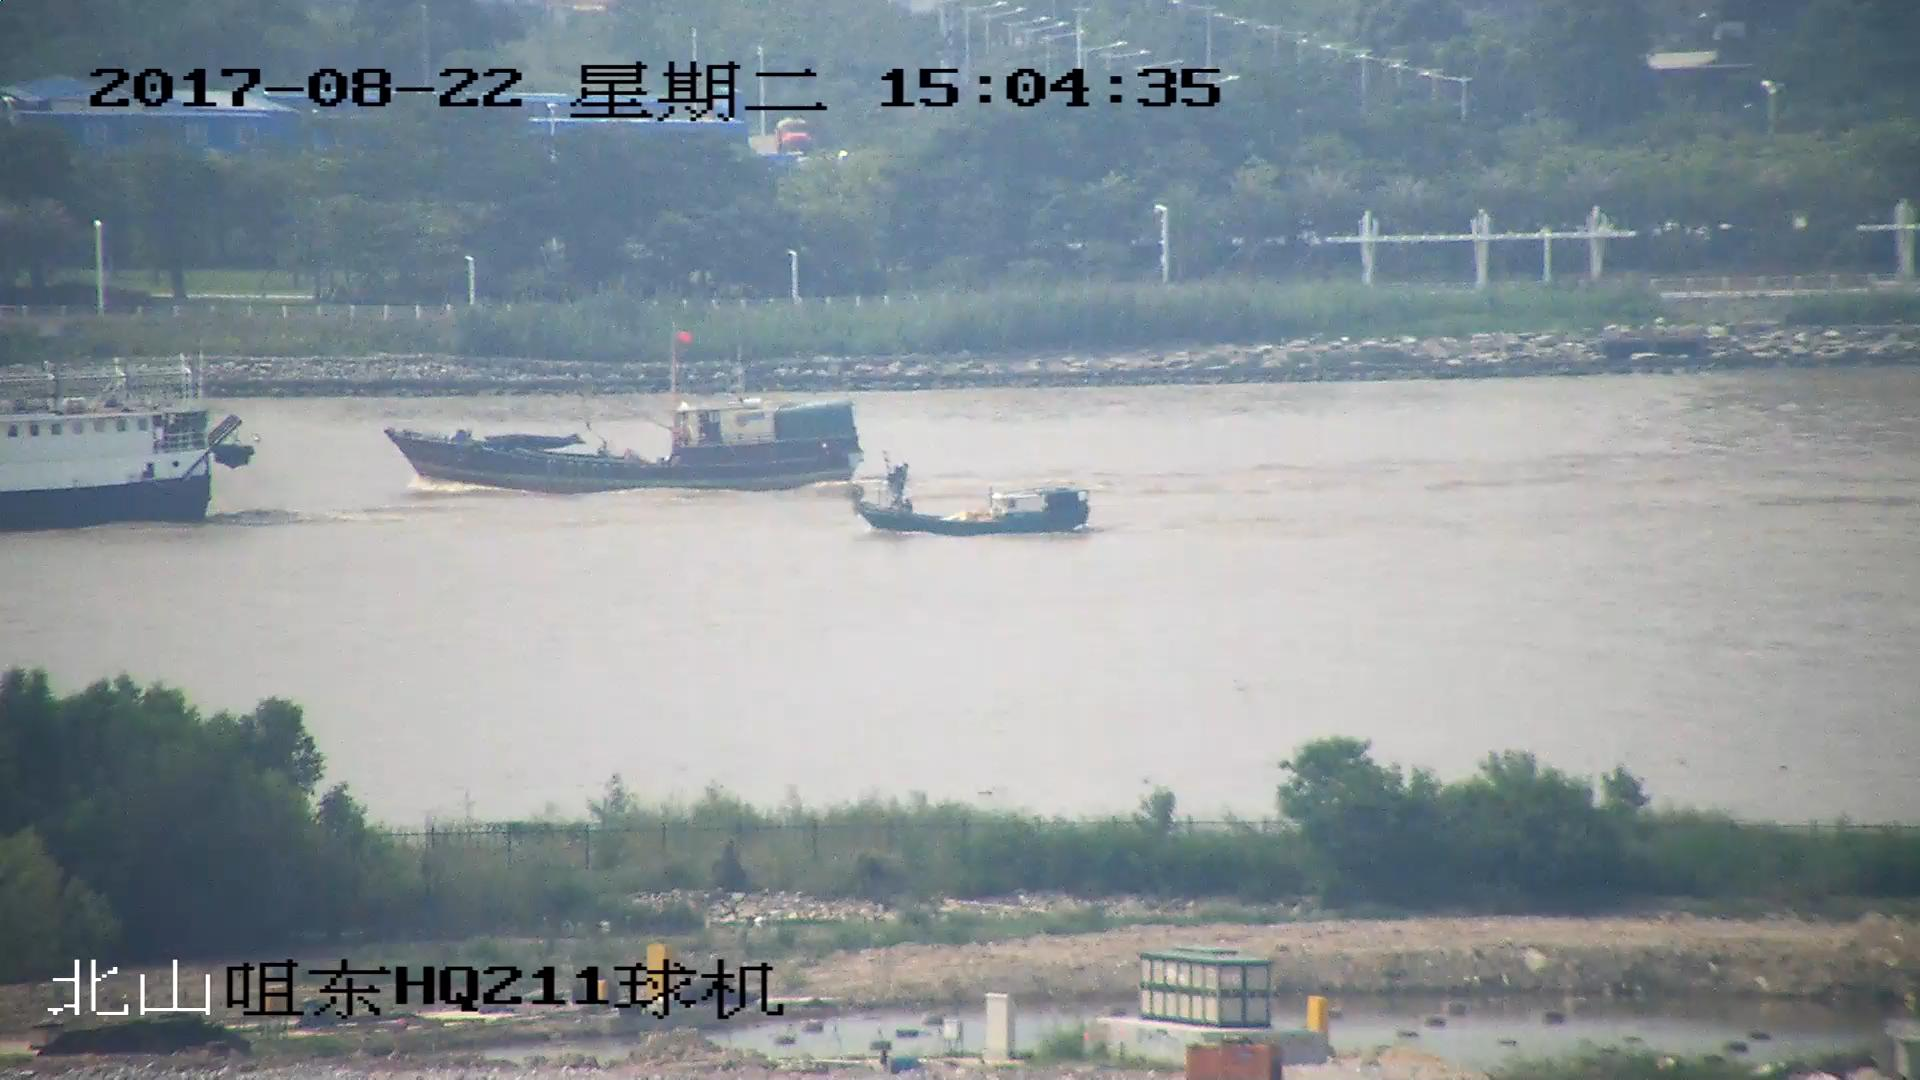fishing boat: (387, 331, 865, 493), (1, 361, 253, 525), (851, 463, 1091, 541)
